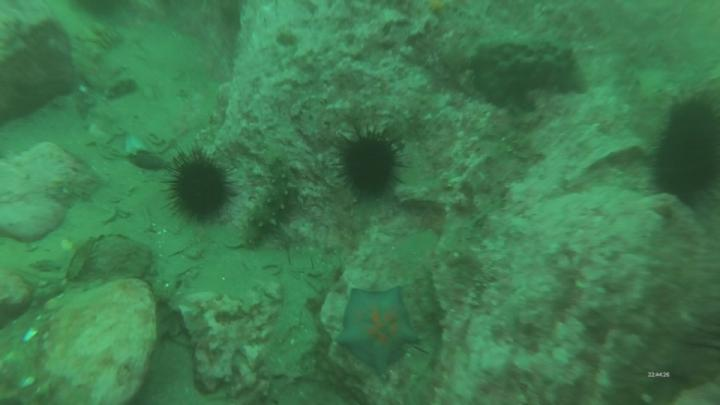echinus: (653, 97, 720, 211), (334, 125, 403, 210), (165, 151, 240, 228)
holothurian: (242, 154, 296, 252)
starfish: (339, 282, 423, 385)
